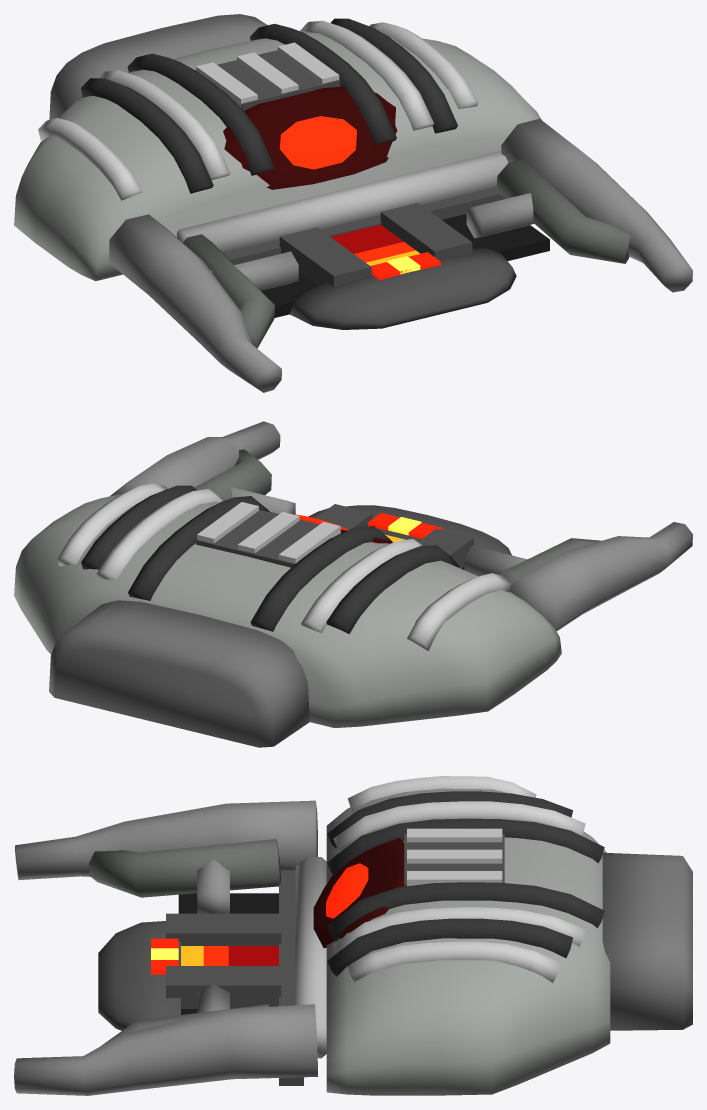
The model's file is newshl-229.glb.
3 views of the same model, one above another, from view 1: azimuth 30°, elevation 25°; view 2: azimuth 150°, elevation 25°; view 3: azimuth 270°, elevation 25° (orthographic). The views are drawn at different scales.
Parts seen in each view (by area): view 1: newshl-229, newshl-229_flat; view 2: newshl-229, newshl-229_flat; view 3: newshl-229, newshl-229_flat.
Part boxes in pixels (left/top/right/bottom): newshl-229: left=14, top=14, right=692, bottom=392; newshl-229_flat: left=195, top=42, right=549, bottom=317; newshl-229: left=14, top=421, right=692, bottom=747; newshl-229_flat: left=196, top=502, right=473, bottom=569; newshl-229: left=14, top=776, right=692, bottom=1095; newshl-229_flat: left=151, top=828, right=504, bottom=1085.
Bounding box in the file's own units: 1.95 × 0.4937 × 2.26.
